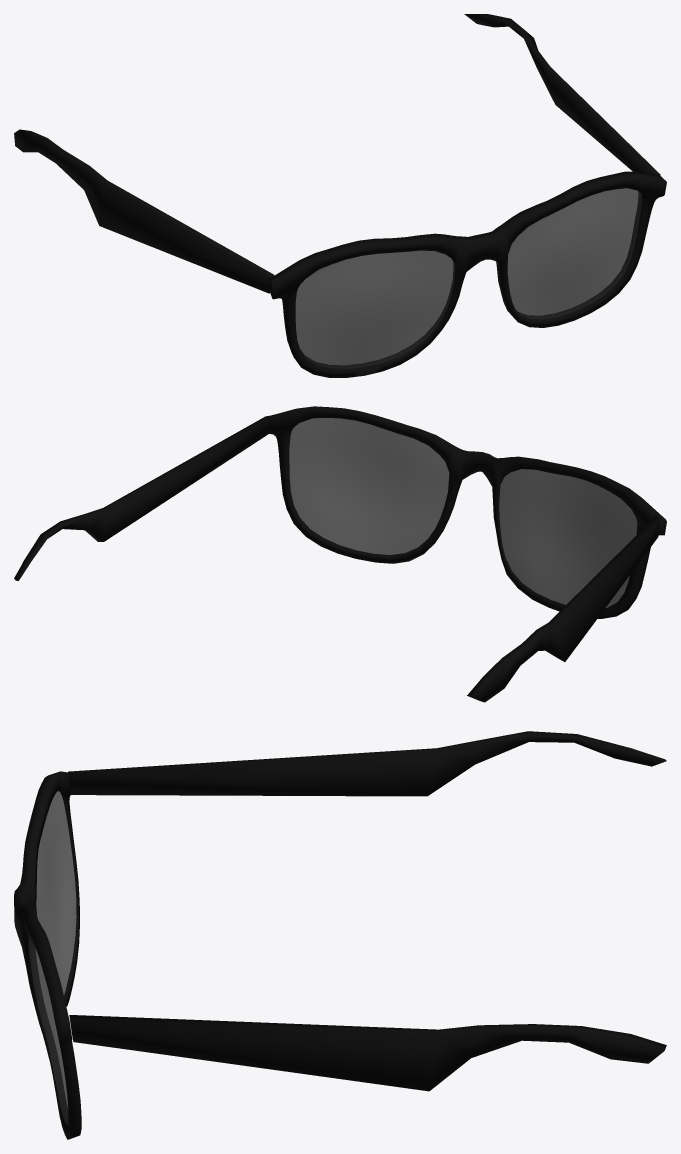
Rendered from Eyewear.FBX.
The picture shows the model from 3 angles, top to bottom: view 1: azimuth 30°, elevation 25°; view 2: azimuth 150°, elevation 25°; view 3: azimuth 270°, elevation 25°; orthographic projection. The views are drawn at different scales.
Parts seen in each view (by area): view 1: Eyewear; view 2: Eyewear; view 3: Eyewear.
Part boxes in pixels (x1,y1,x2,y2): Eyewear: (14,14,666,377); Eyewear: (14,406,666,702); Eyewear: (14,731,666,1139).
Bounding box in the file's own units: 361 × 315 × 105.
Materials: 2 (1 with a texture image).
